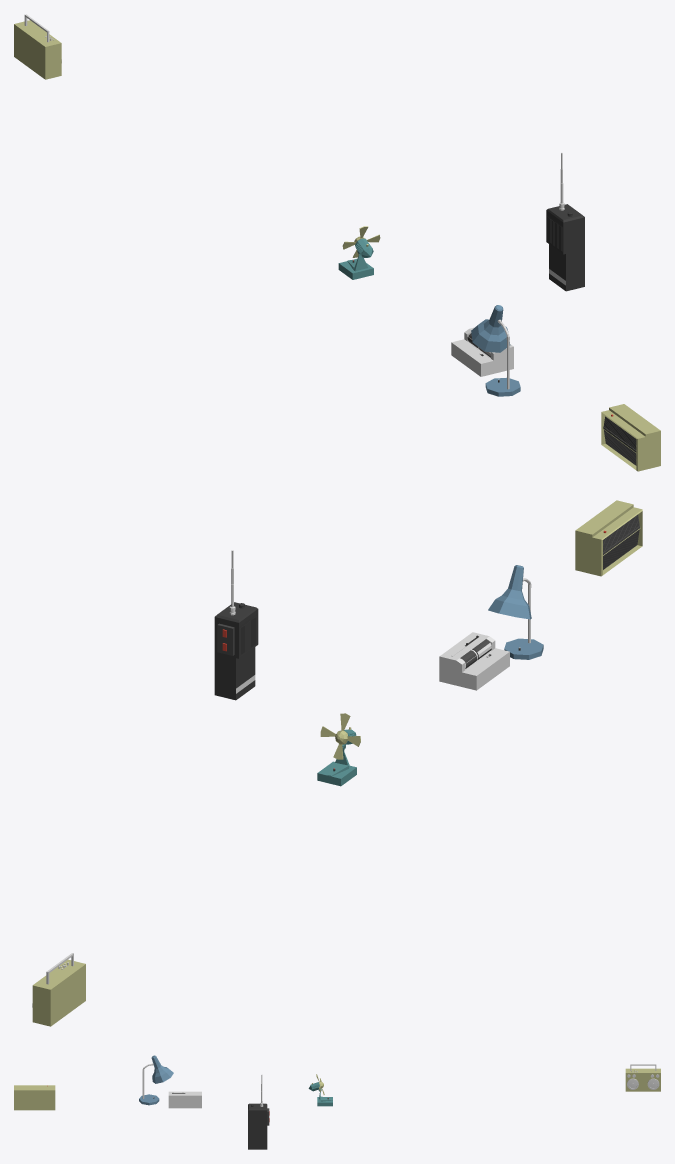
Rendered from More.fbx.
3 views of the same model, one above another, from view 1: azimuth 30°, elevation 25°; view 2: azimuth 150°, elevation 25°; view 3: azimuth 270°, elevation 25° (orthographic). The views are drawn at different scales.
Visible parts, largest first — view 1: Cube.021, Cube.009, Cube, Cylinder.026, Cube.017, Cube.012, Cube.014; view 2: Cube.021, Cube.009, Cube, Cube.014, Cube.017, Cylinder.026, Cube.012; view 3: Cube.009, Cube.021, Cube, Cube.017, Cylinder.026, Cylinder.022.
Boxes of the visible parts, x1=… form: Cube.021: x1=546, y1=204, x2=584, y2=291; Cube.009: x1=601, y1=404, x2=660, y2=471; Cube: x1=14, y1=20, x2=61, y2=79; Cylinder.026: x1=471, y1=305, x2=510, y2=352; Cube.017: x1=451, y1=327, x2=513, y2=376; Cube.012: x1=603, y1=416, x2=636, y2=465; Cube.014: x1=454, y1=332, x2=510, y2=374; Cube.021: x1=214, y1=602, x2=258, y2=700; Cube.009: x1=575, y1=500, x2=642, y2=576; Cube: x1=32, y1=959, x2=85, y2=1026; Cube.014: x1=443, y1=634, x2=506, y2=687; Cube.017: x1=439, y1=632, x2=509, y2=690; Cylinder.026: x1=488, y1=565, x2=531, y2=619; Cube.012: x1=603, y1=514, x2=639, y2=569; Cube.009: x1=14, y1=1085, x2=55, y2=1110; Cube.021: x1=248, y1=1103, x2=267, y2=1149; Cube: x1=625, y1=1068, x2=660, y2=1091; Cube.017: x1=168, y1=1091, x2=201, y2=1108; Cylinder.026: x1=151, y1=1055, x2=173, y2=1083; Cylinder.022: x1=139, y1=1094, x2=159, y2=1105.
Size of the model in its own units: 1304 by 778 by 6359.
